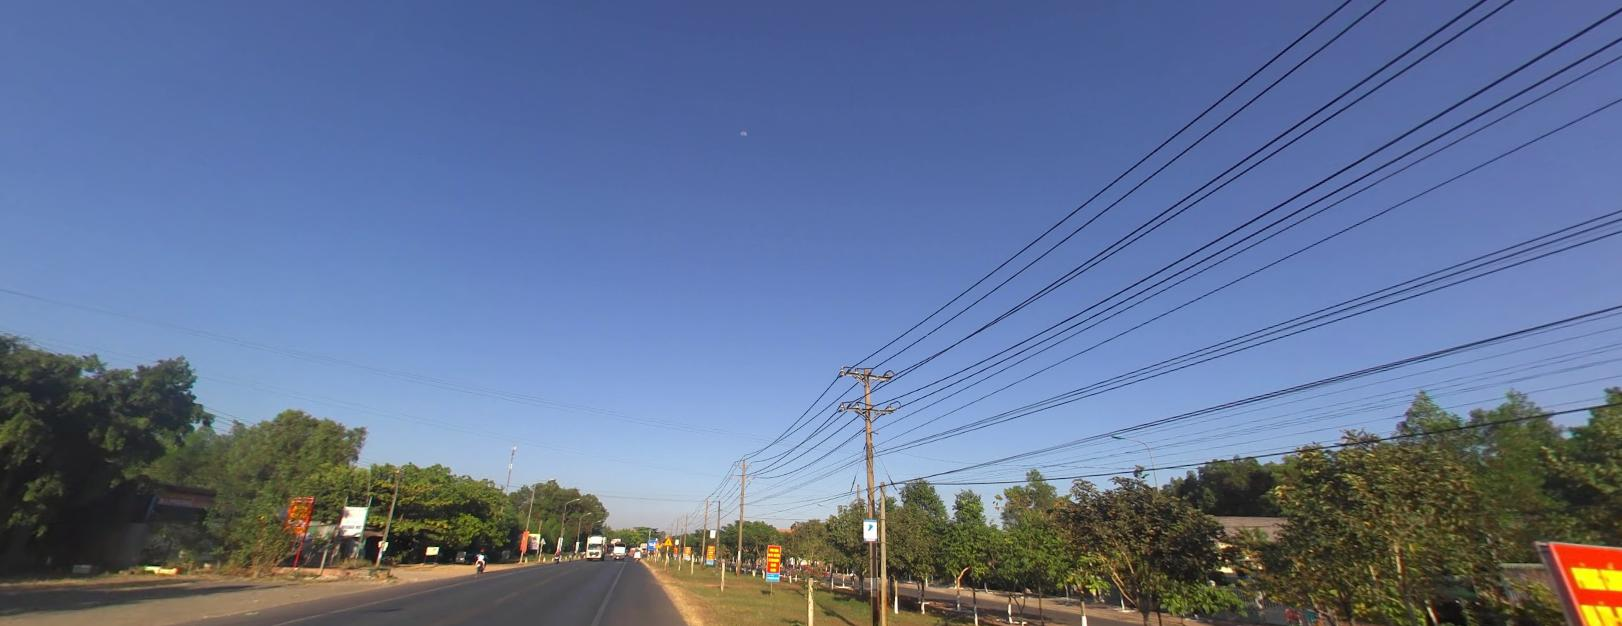Nguy hiem: (661, 536, 672, 545), (654, 539, 662, 547)
